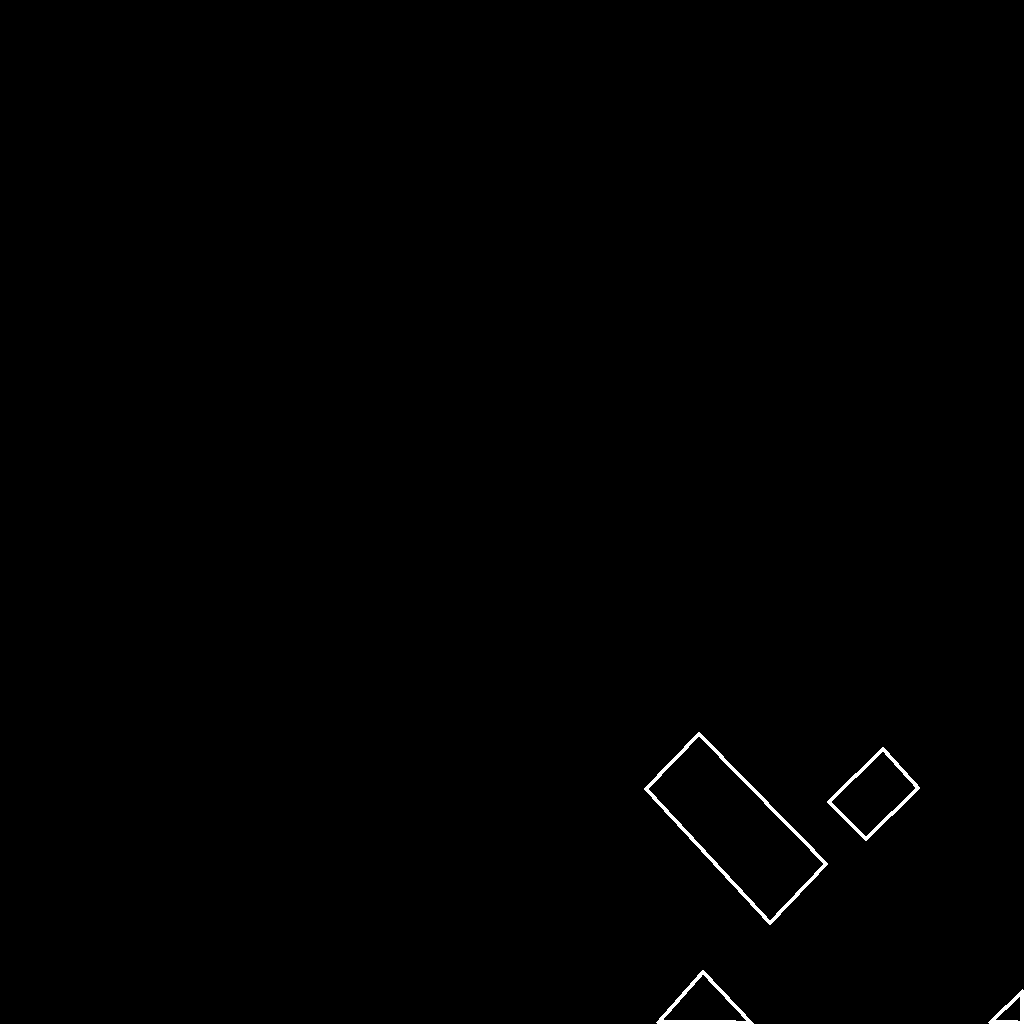building: (646, 734, 827, 924), (829, 749, 919, 840), (658, 972, 753, 1024), (990, 991, 1024, 1024)
